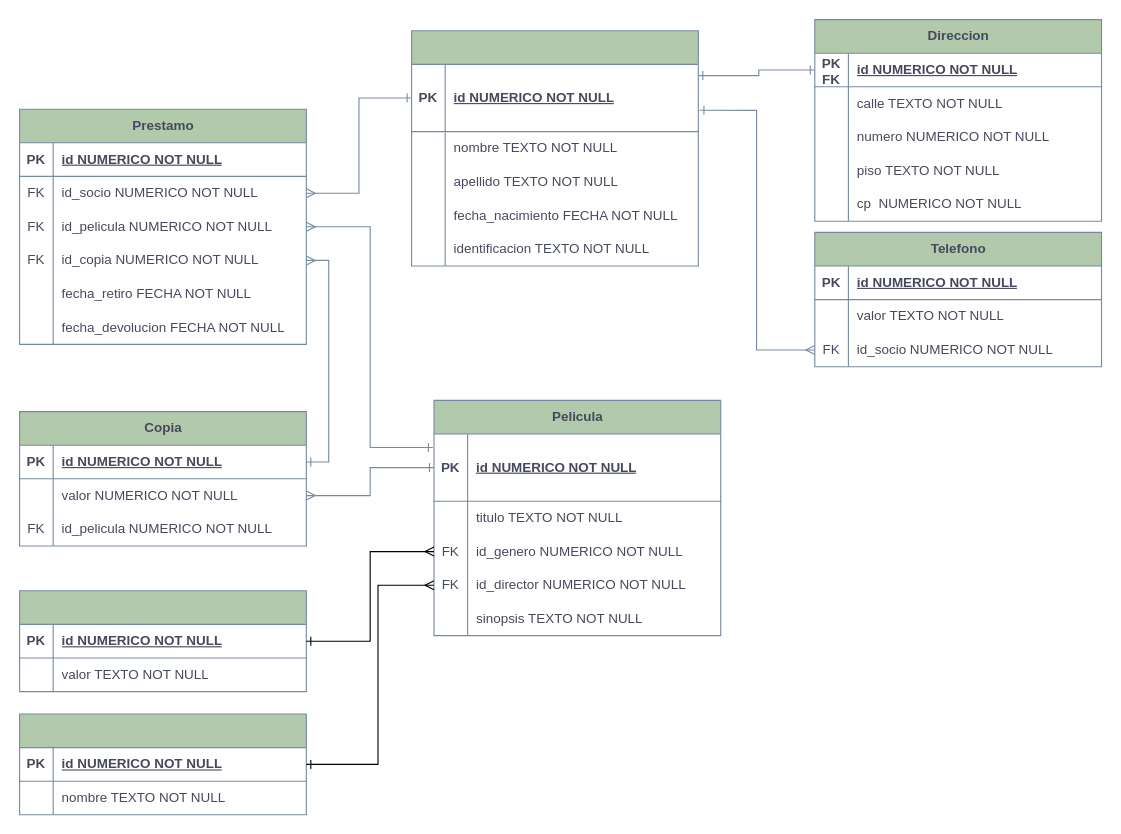
Some shapes in this 1121 by 834 pixel diagram are drawn without their labels. The shapes that lost their labels are listed below. From the top down, each one's box as (x1, y1, x2, y2) in pixels, then its label:
(410, 30, 698, 266): Socio
(18, 590, 306, 692): Genero
(18, 713, 306, 815): Director
